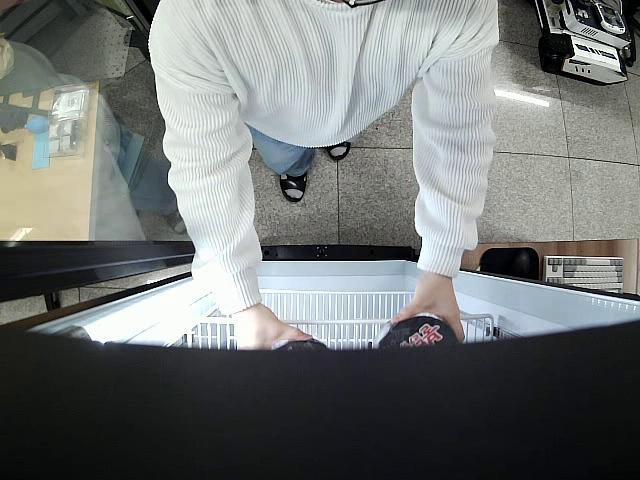07_buldak_L: (375, 314, 461, 352)
